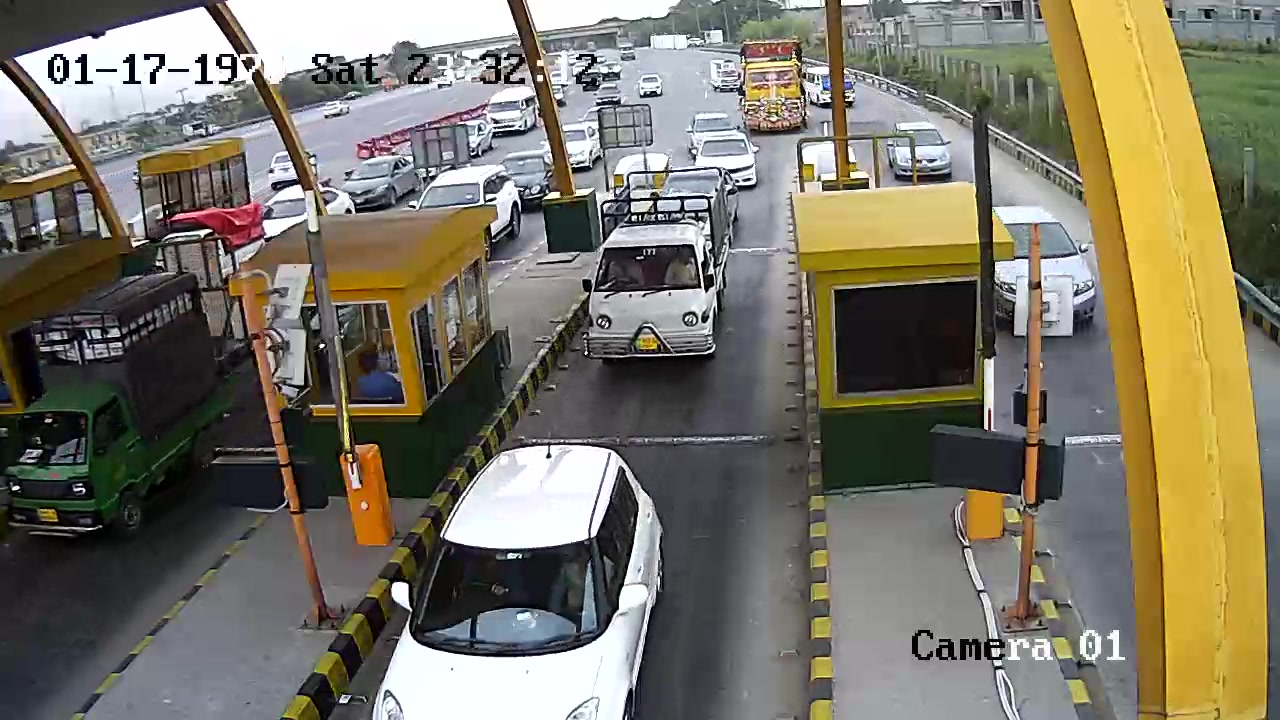F2: (582, 161, 729, 393)
